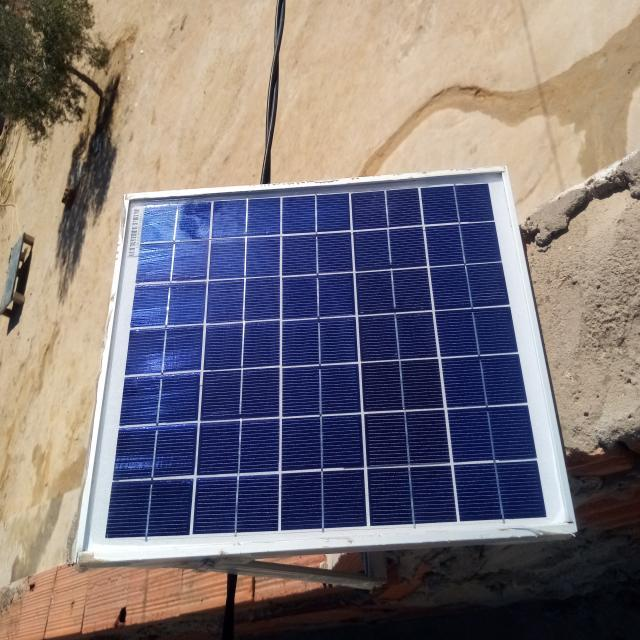no faulty: (77, 170, 575, 558)
